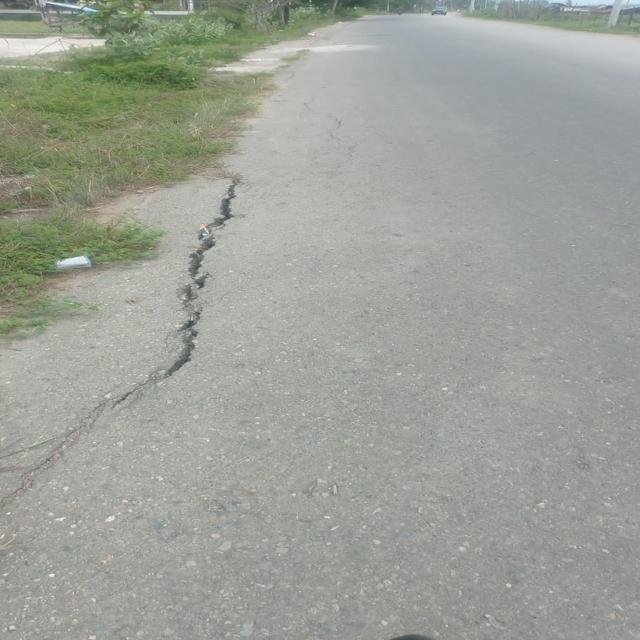Memanjang: (80, 166, 253, 439)
